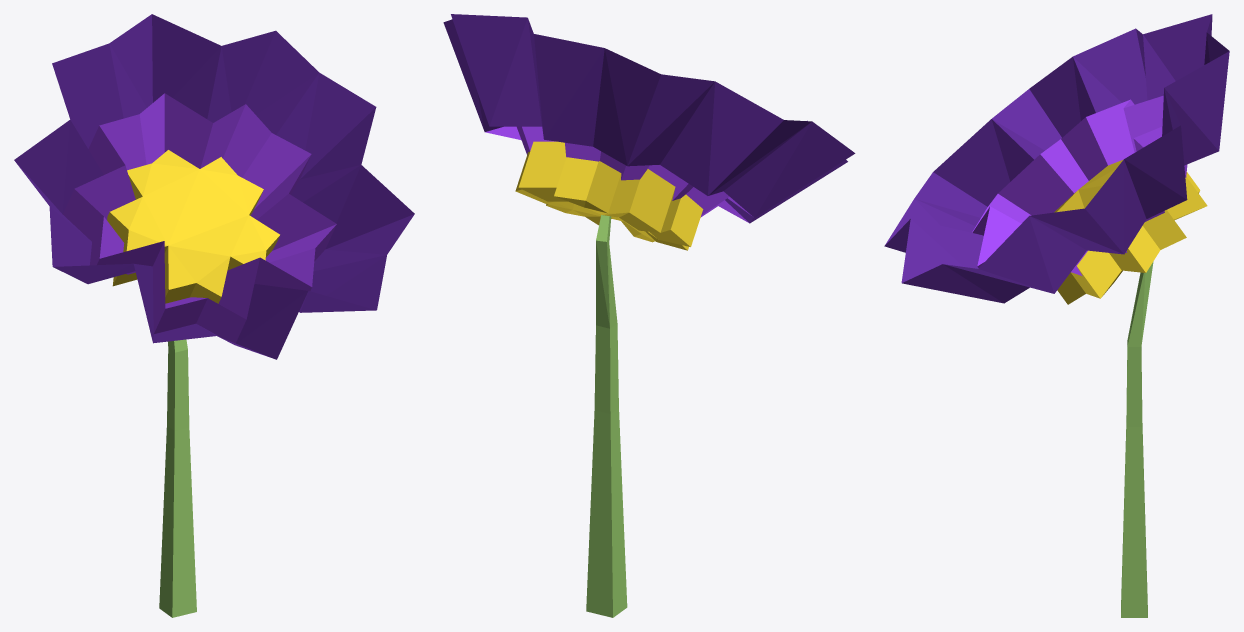
Rendered from flower01_purple.fbx.
3 renders of one model, left to right at view 1: azimuth 30°, elevation 25°; view 2: azimuth 150°, elevation 25°; view 3: azimuth 270°, elevation 25°, orthographic. The views are drawn at different scales.
Parts seen in each view (by area): view 1: flower01_purple_LOD0; view 2: flower01_purple_LOD0; view 3: flower01_purple_LOD0.
Boxes of the visible parts, box(x1,y1,x2,y2) form: flower01_purple_LOD0: box(14, 14, 414, 617); flower01_purple_LOD0: box(443, 14, 855, 617); flower01_purple_LOD0: box(884, 14, 1229, 617).
Size of what is drawn, in the model's own units: 57.01 by 86.48 by 47.41.
